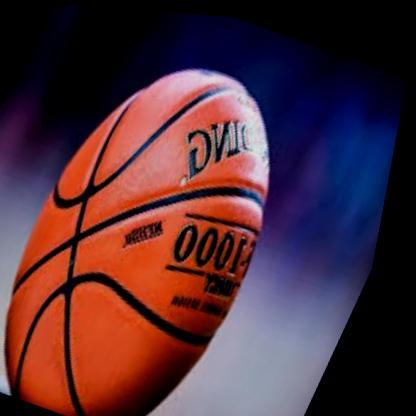basketball: (0, 24, 336, 416)
